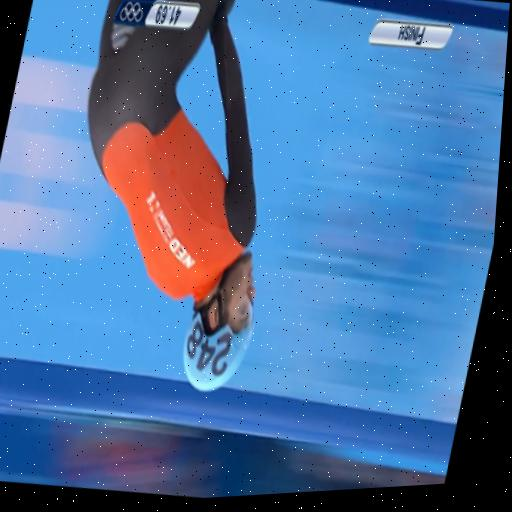Skater: (87, 0, 256, 389)
